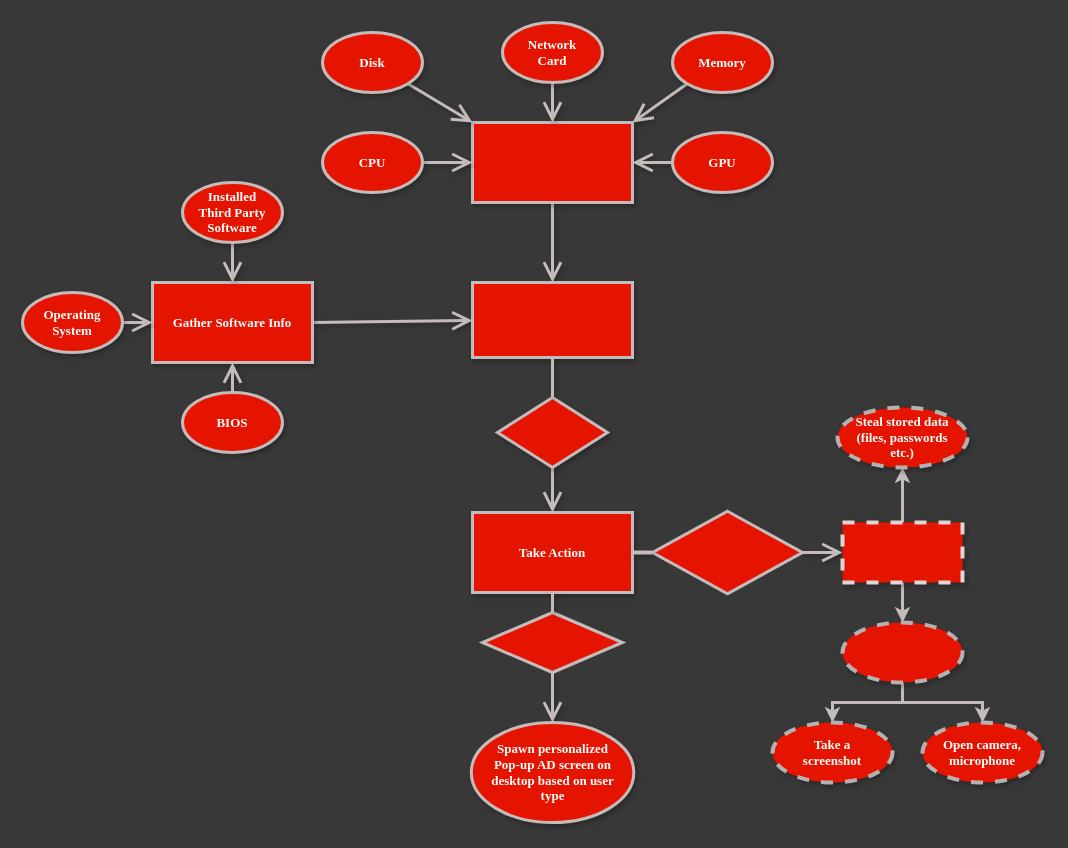
The diagram is 1068 pixels wide and 848 high, and some of its shapes have lost their labels. Each missing label, with the centre of its shape:
"Access to device remotely" goes at (x=903, y=653).
"Analyzed Data" goes at (x=553, y=434).
"Based on anaylzed data" goes at (x=552, y=642).
"Gather Hardware Info" goes at (x=553, y=163).
"independent from data" goes at (x=727, y=552).
"Other Malicious Intents" goes at (x=903, y=553).
"Process (Analyze) Data" goes at (x=553, y=321).
